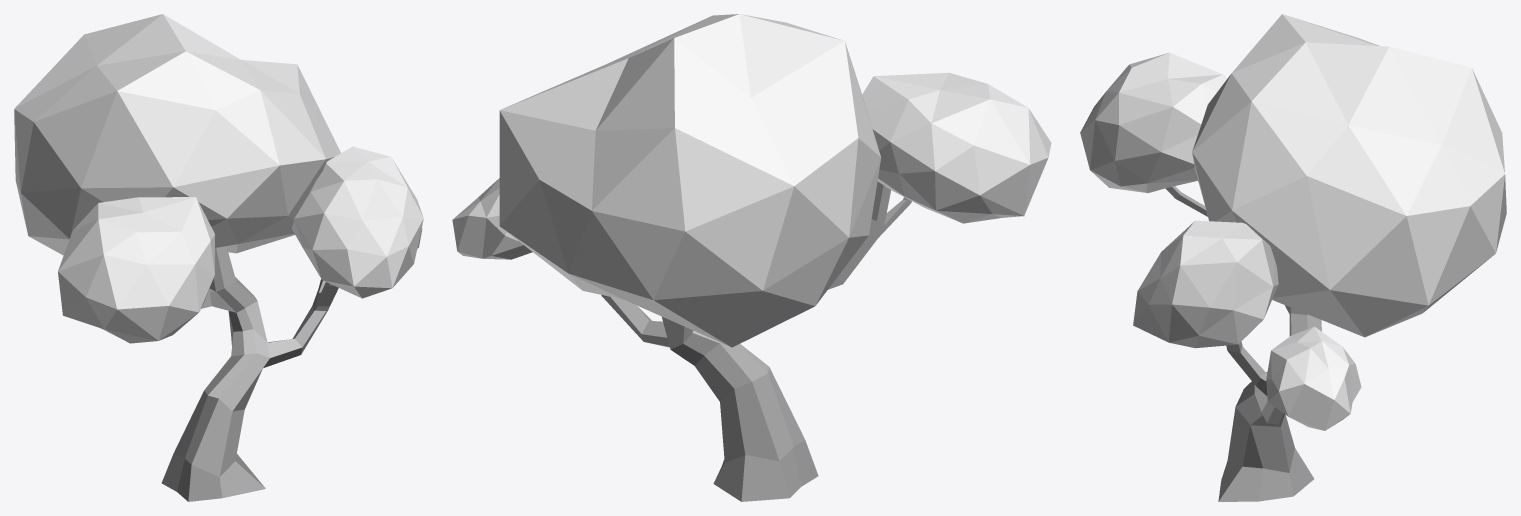
File: dprop_tree3.fbx
The picture shows the model from 3 angles, left to right: view 1: azimuth 30°, elevation 25°; view 2: azimuth 150°, elevation 25°; view 3: azimuth 270°, elevation 25°; orthographic projection. The views are drawn at different scales.
Visible parts, largest first — view 1: TreeA03_; view 2: TreeA03_; view 3: TreeA03_.
Boxes of the visible parts, bbox=[...] form: TreeA03_: bbox=[14, 14, 423, 501]; TreeA03_: bbox=[452, 14, 1051, 501]; TreeA03_: bbox=[1080, 14, 1506, 501].
Size of the model in its own units: 408 by 338 by 388.
